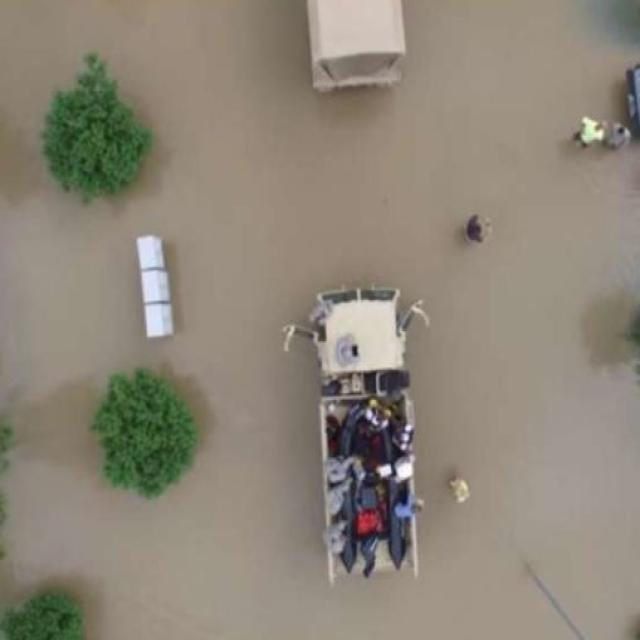flooded_areas: (56, 103, 560, 630)
